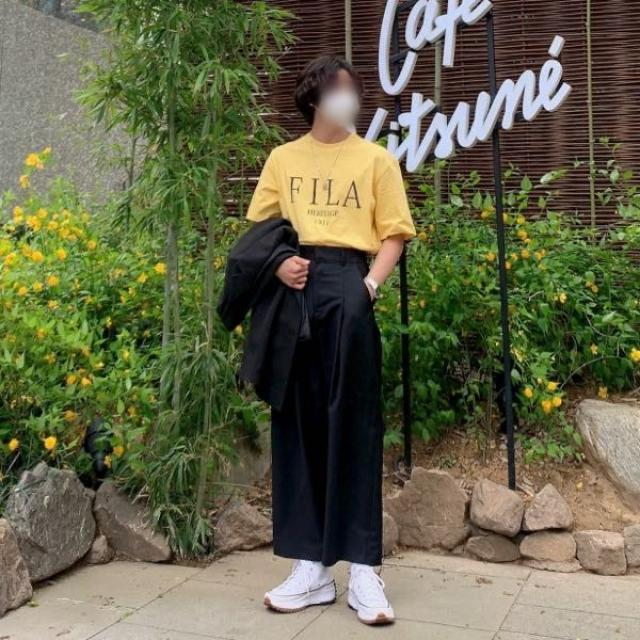shortsleeve: (246, 127, 414, 250)
skirt: (275, 244, 389, 564)
